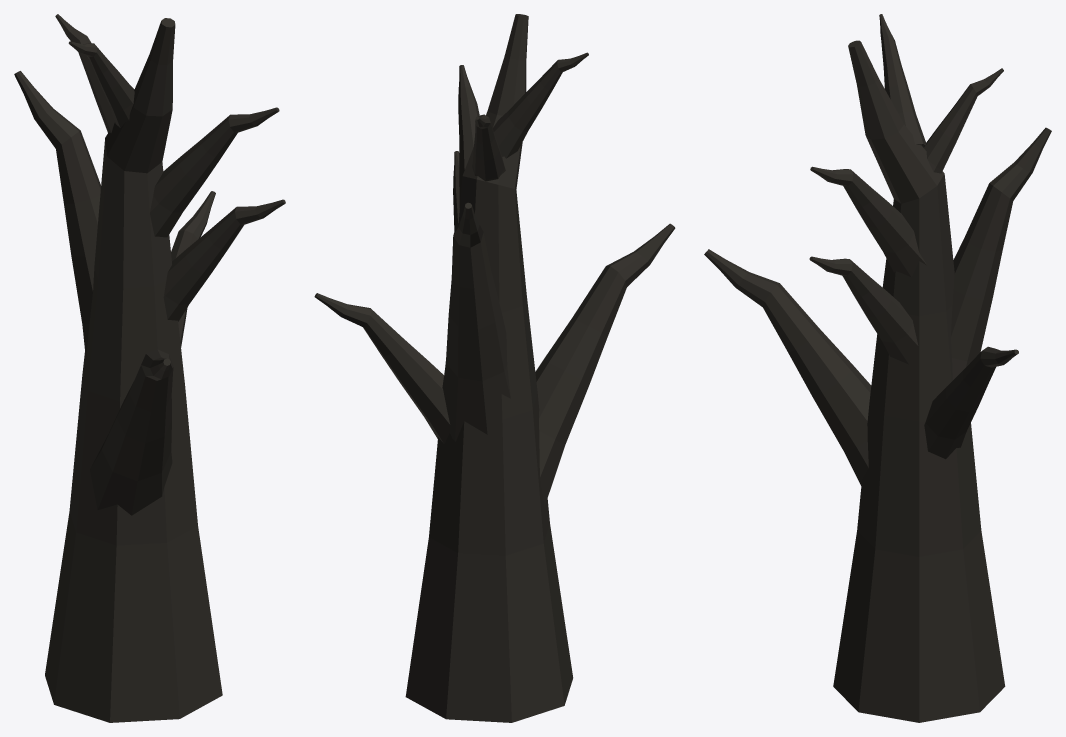
The model's file is SM_Env_Tree_04.fbx.
3 renders of one model, left to right at view 1: azimuth 30°, elevation 25°; view 2: azimuth 150°, elevation 25°; view 3: azimuth 270°, elevation 25°, orthographic. The views are drawn at different scales.
Parts seen in each view (by area): view 1: Cylinder.010; view 2: Cylinder.010; view 3: Cylinder.010.
Boxes of the visible parts, <box> form: Cylinder.010: <box>14,14,285,722</box>; Cylinder.010: <box>314,14,675,722</box>; Cylinder.010: <box>704,14,1051,722</box>.
Bounding box in the file's own units: 404 × 827 × 274.
